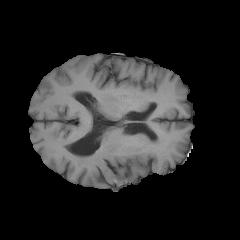glioma: (71, 122, 167, 177)
